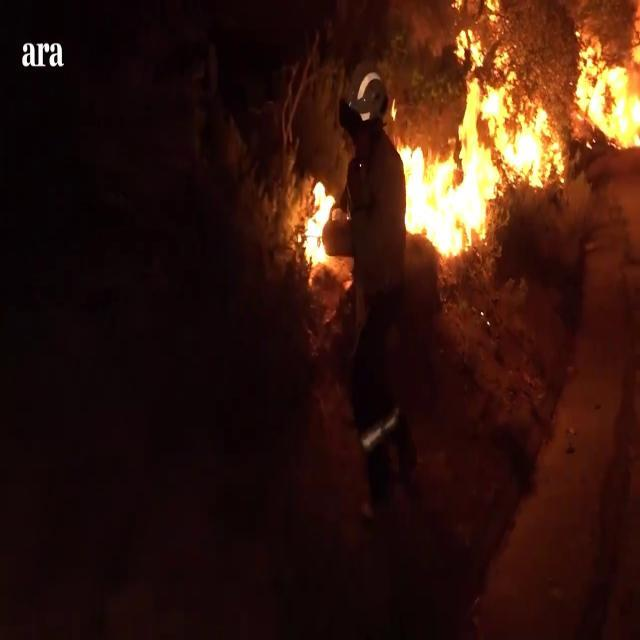Fire: (395, 2, 640, 255), (298, 171, 338, 270)
